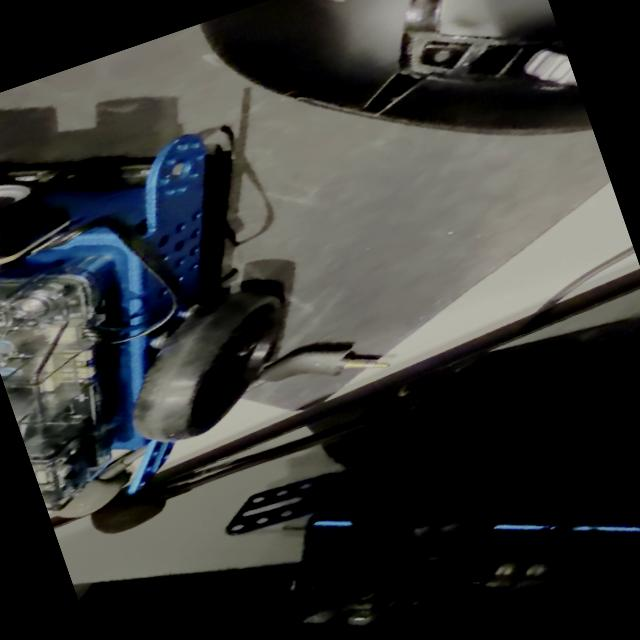mbot-detection: (0, 88, 343, 529)
